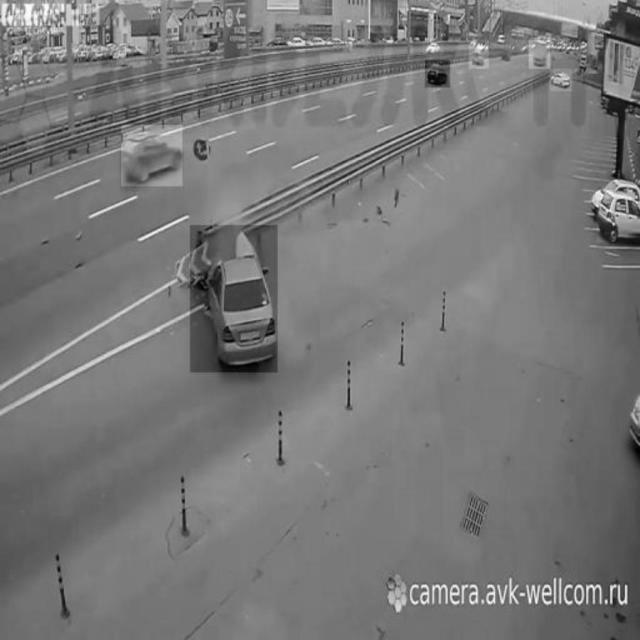accident: (190, 226, 278, 373)
vehicle: (122, 125, 183, 186), (596, 189, 640, 243), (425, 61, 450, 88), (529, 38, 549, 68), (549, 69, 573, 91), (469, 45, 489, 69), (423, 39, 443, 55)
